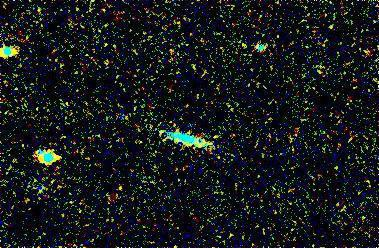star: (201, 125, 231, 155)
